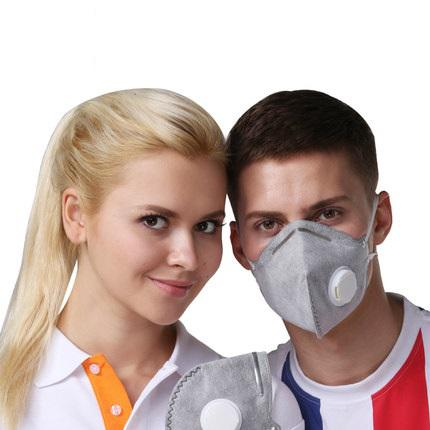NONE: (102, 181, 230, 320)
OK: (241, 180, 376, 328)
